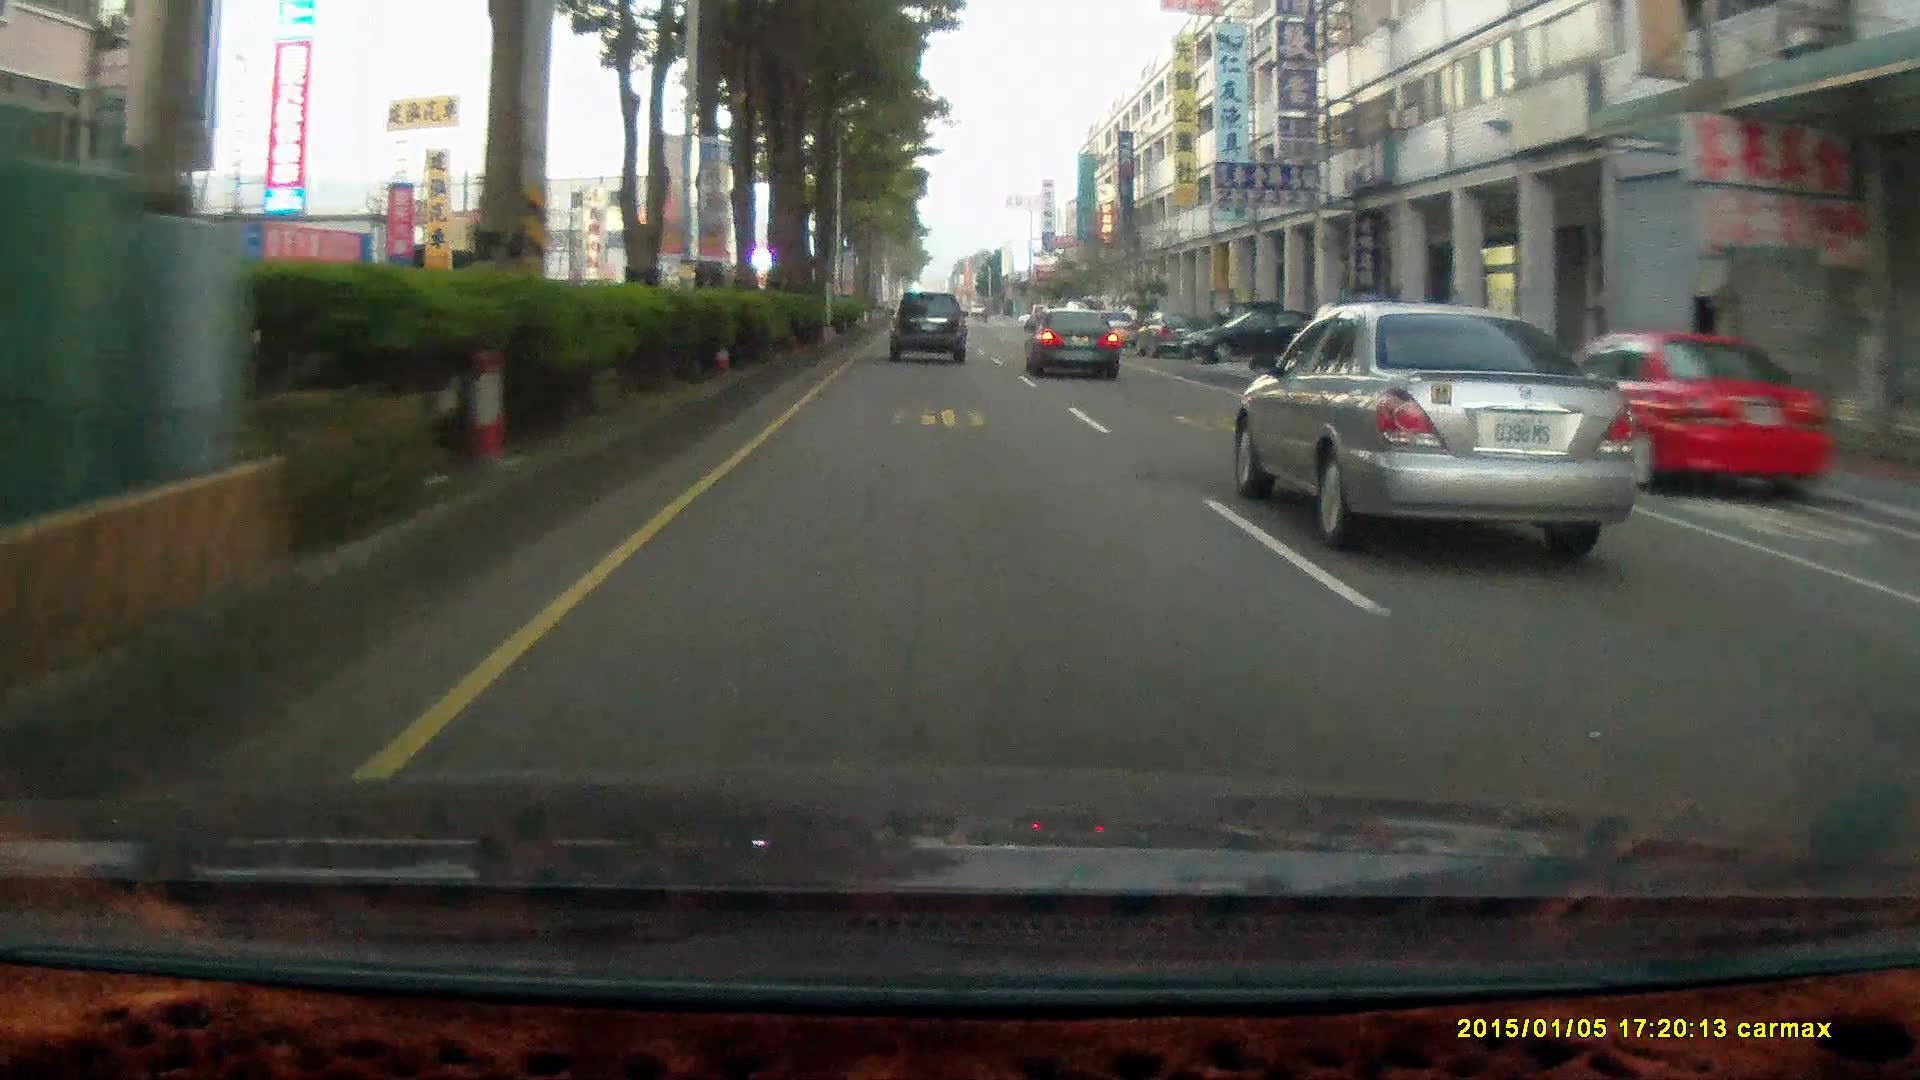vehicle: (1226, 286, 1659, 542), (1524, 327, 1834, 497), (1553, 322, 1849, 500), (1179, 305, 1331, 363), (1023, 306, 1124, 382), (1023, 305, 1120, 378), (887, 289, 971, 367), (886, 287, 969, 359), (1131, 306, 1204, 356)
